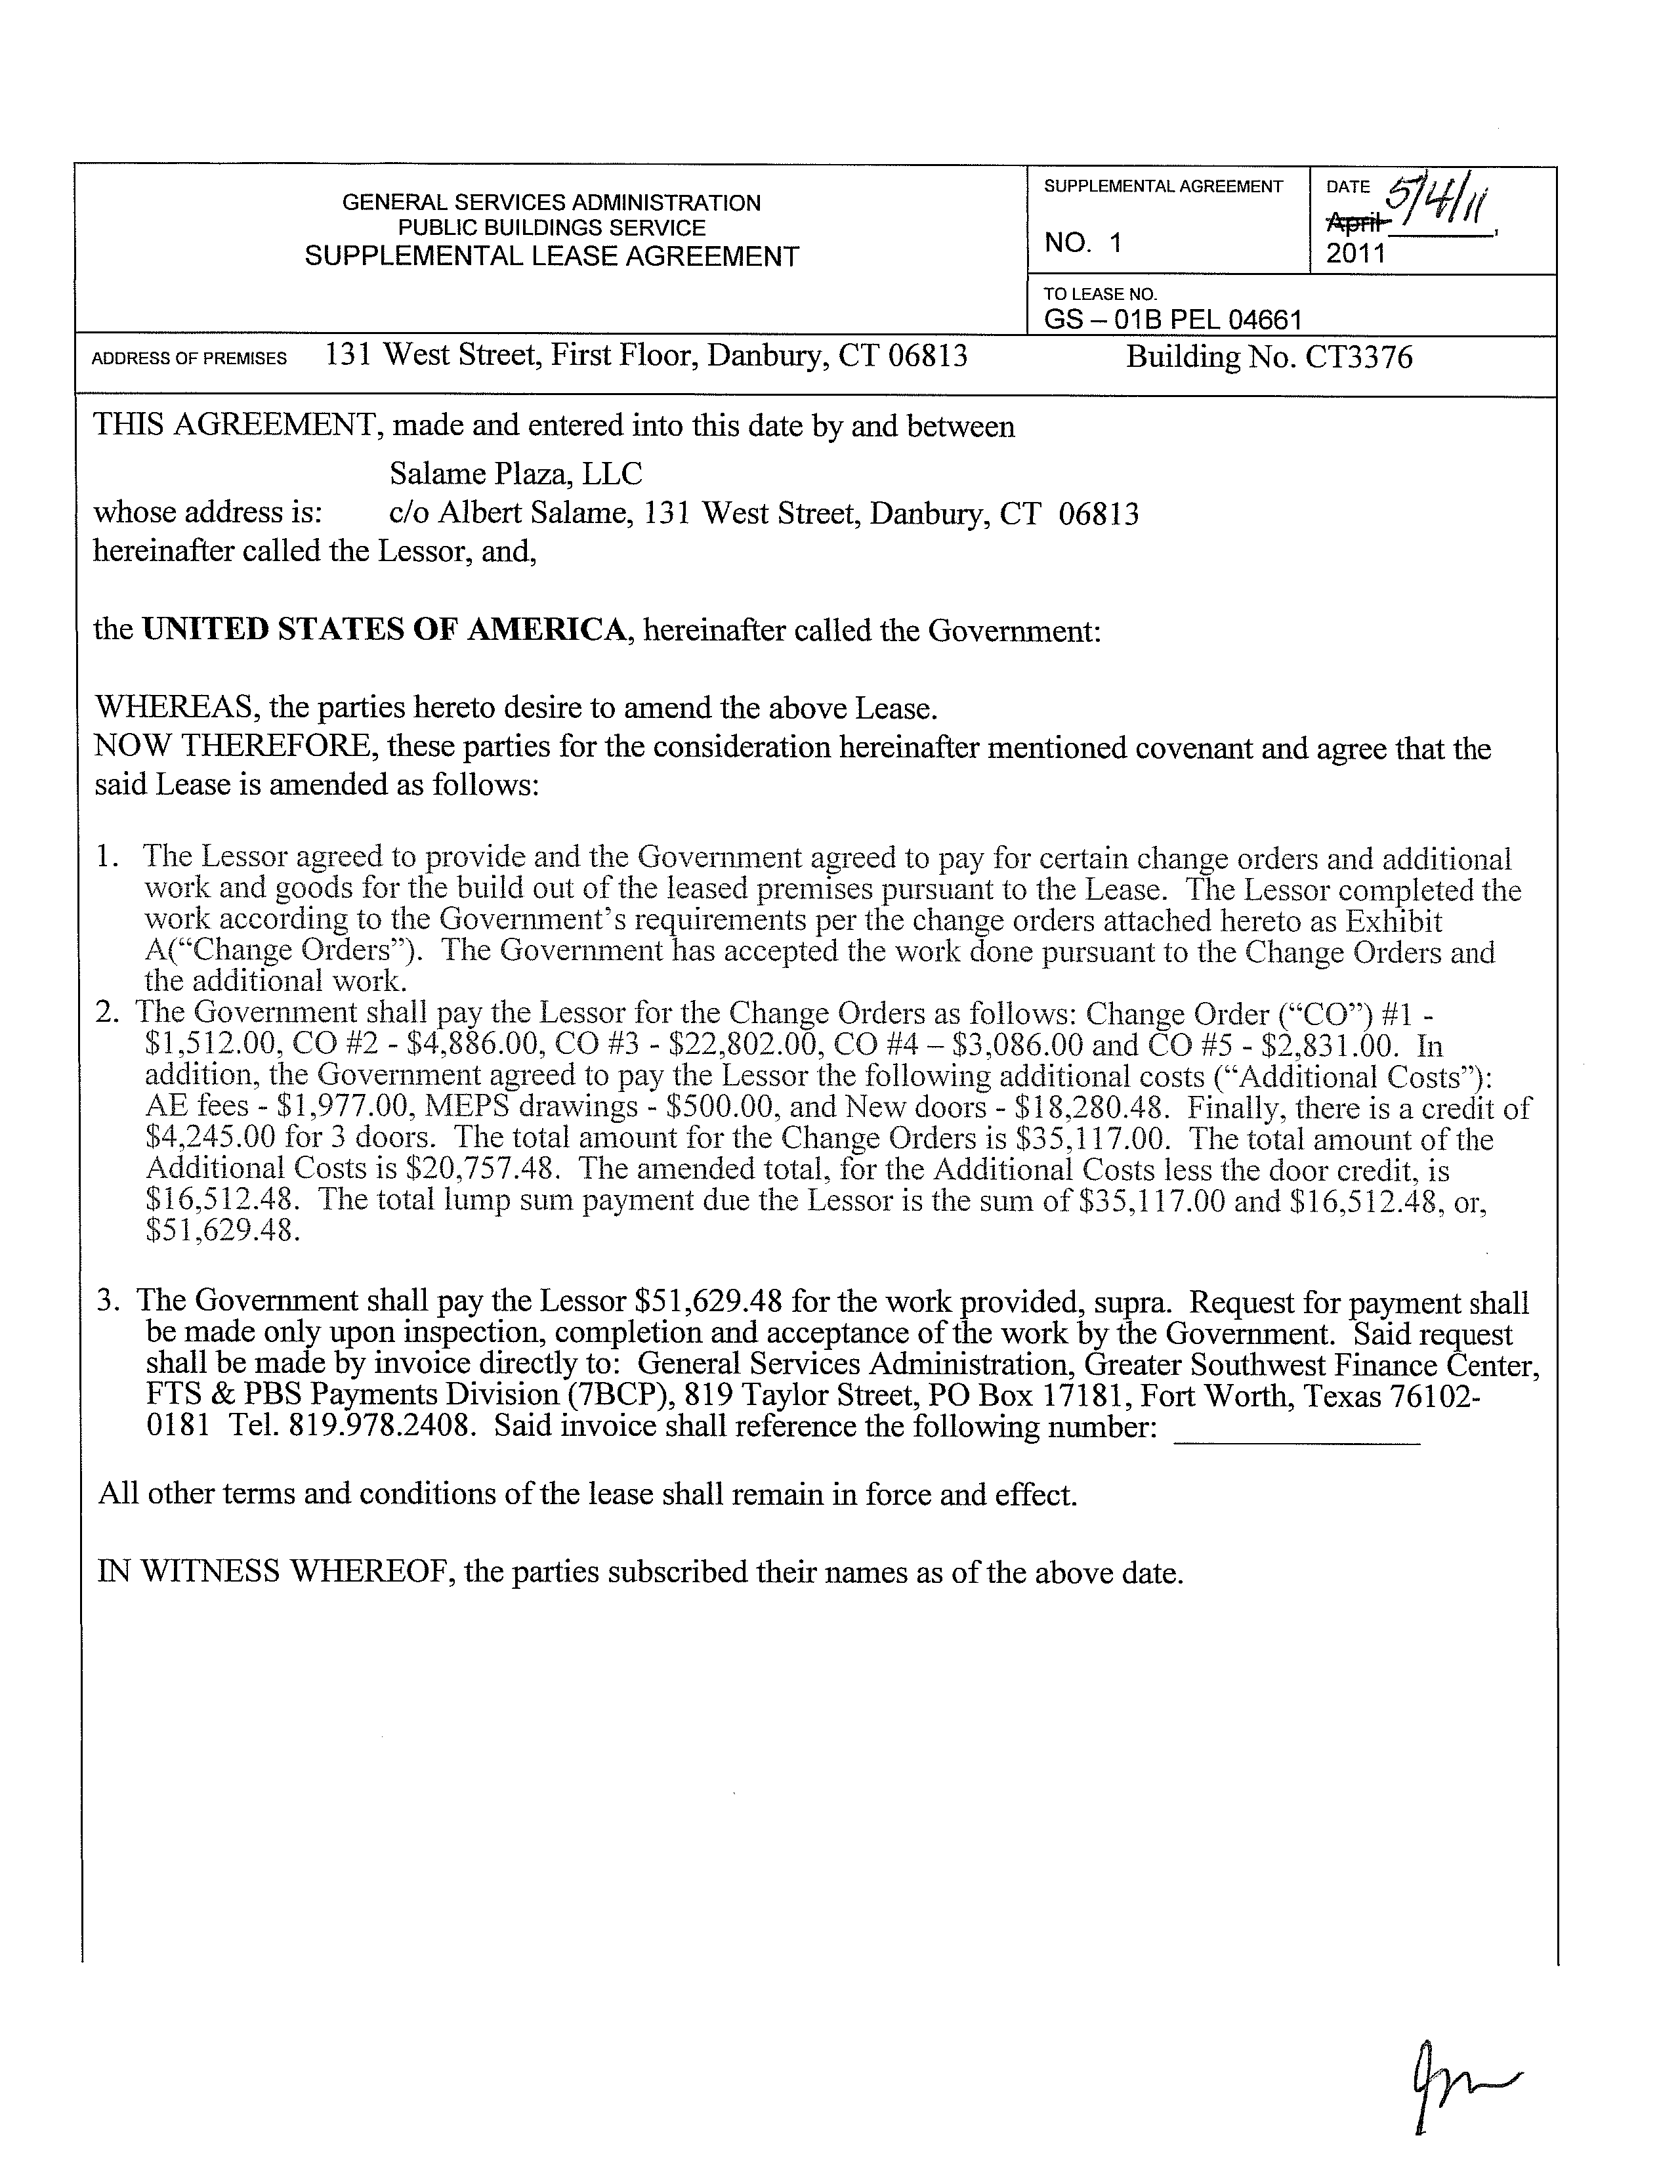handwritten: (1357, 2020, 1537, 2135), (1362, 148, 1521, 236)
